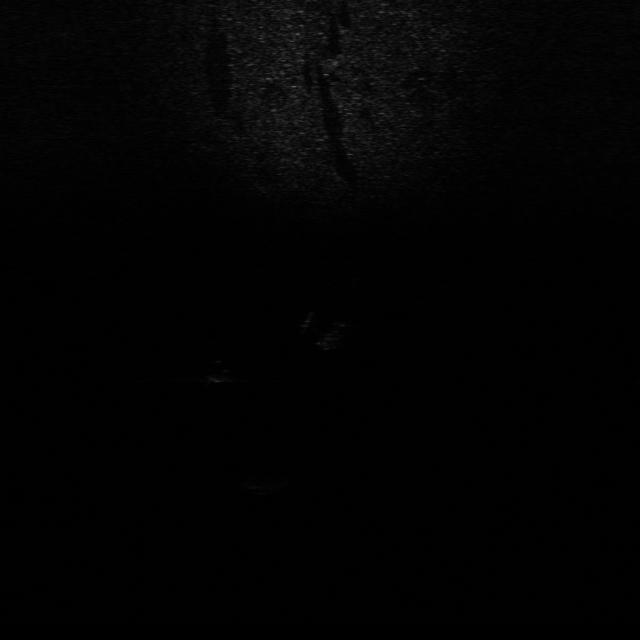ball: (206, 356, 238, 384)
circle cage: (238, 468, 298, 493)
human body: (299, 311, 352, 352)
